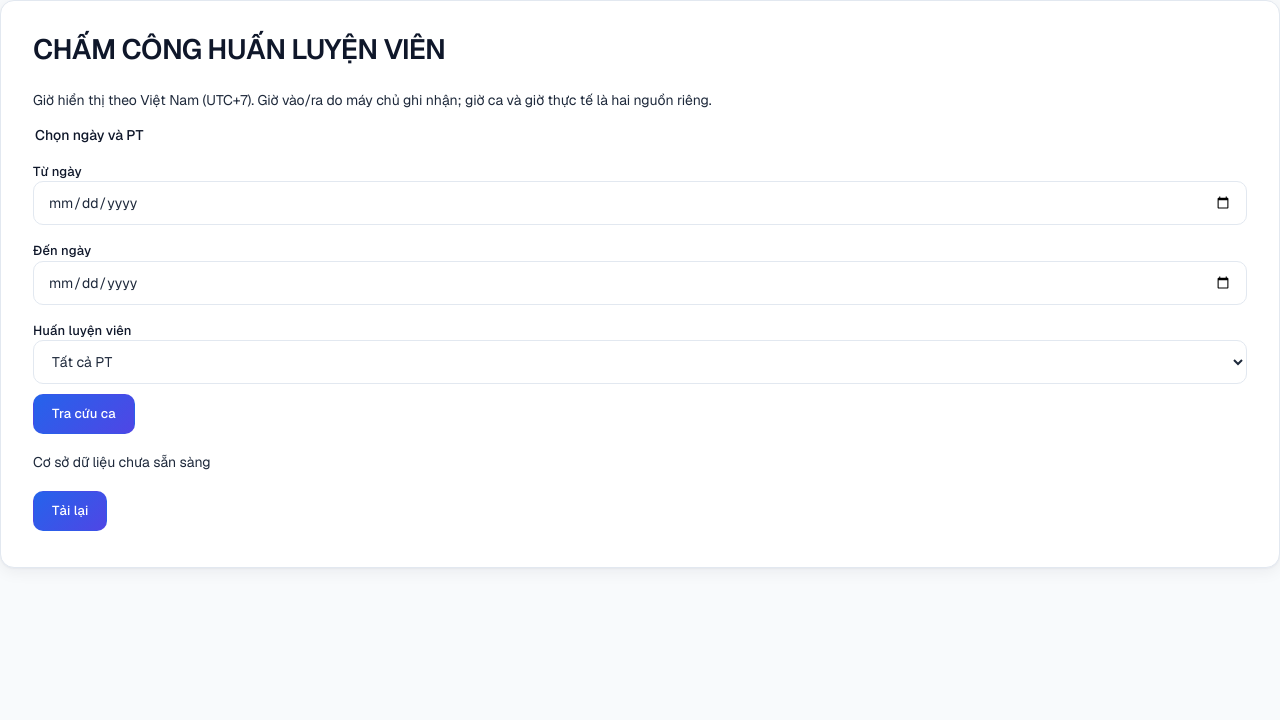
Test: US-63 attendance UI › TC12: DB failure has retry and does not fabricate a zero or an empty successful list
Expected: the message "Cơ sở dữ liệu chưa sẵn sàng" is shown, [33,453,210,471]
Click the button "Tải lại" at (70, 511), box [33,491,108,531]
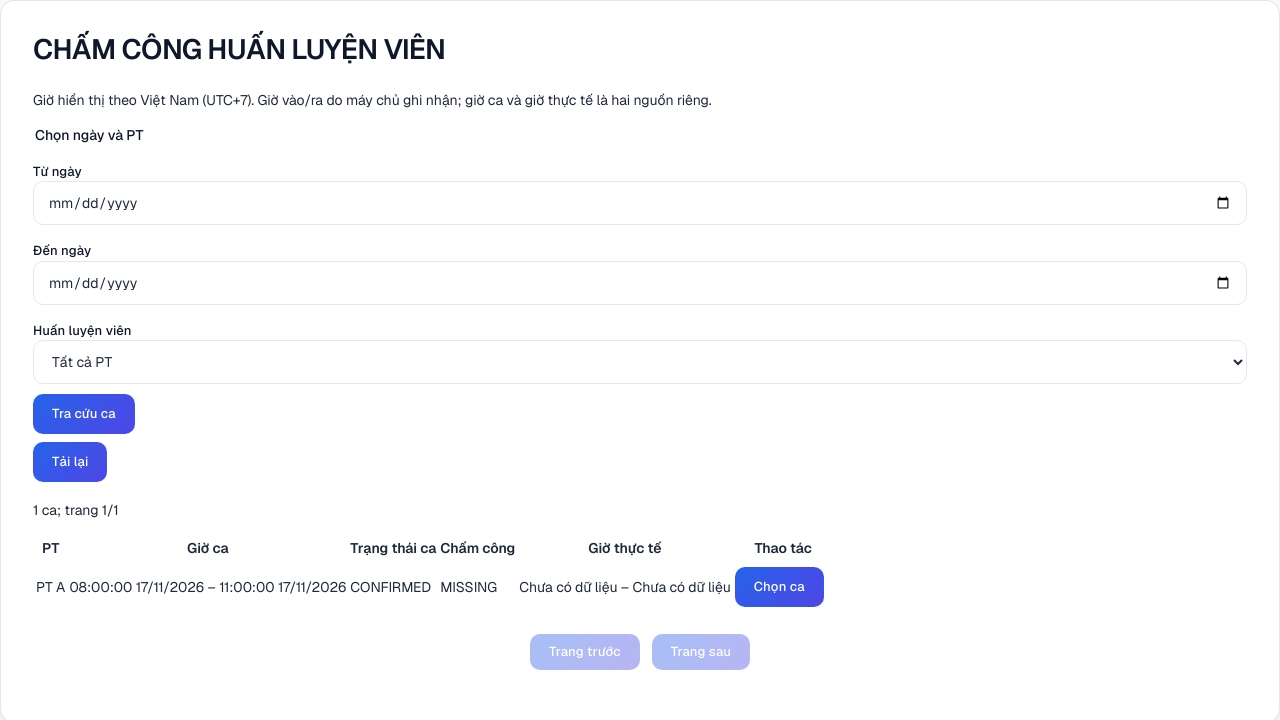
Now the cell "PT A" is shown, box [35,562,66,612]
